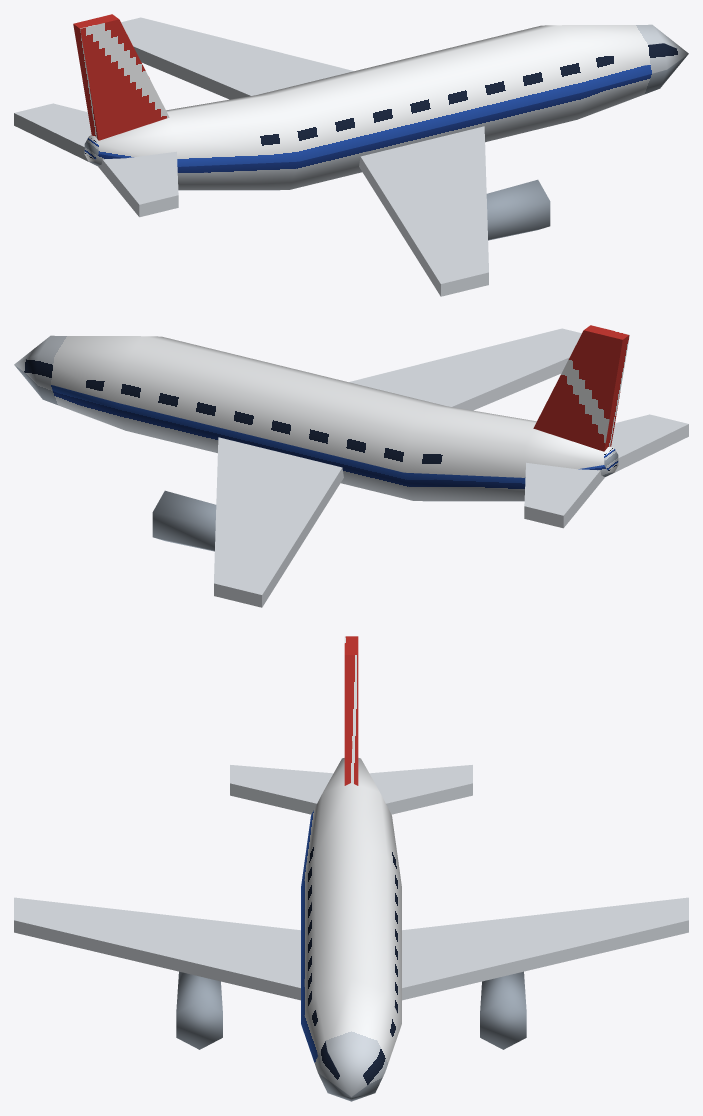
Rendered from money-plane.glb.
The picture shows the model from 3 angles, top to bottom: view 1: azimuth 30°, elevation 25°; view 2: azimuth 150°, elevation 25°; view 3: azimuth 270°, elevation 25°; orthographic projection. The views are drawn at different scales.
Parts seen in each view (by area): view 1: money.plane; view 2: money.plane; view 3: money.plane.
Part boxes in pixels (x1,y1,x2,y2): money.plane: (14,14,688,296); money.plane: (14,325,688,607); money.plane: (14,636,688,1101).
Size of the model in its own units: 1.86 by 0.6948 by 1.83.
4 materials, 2 textured.
